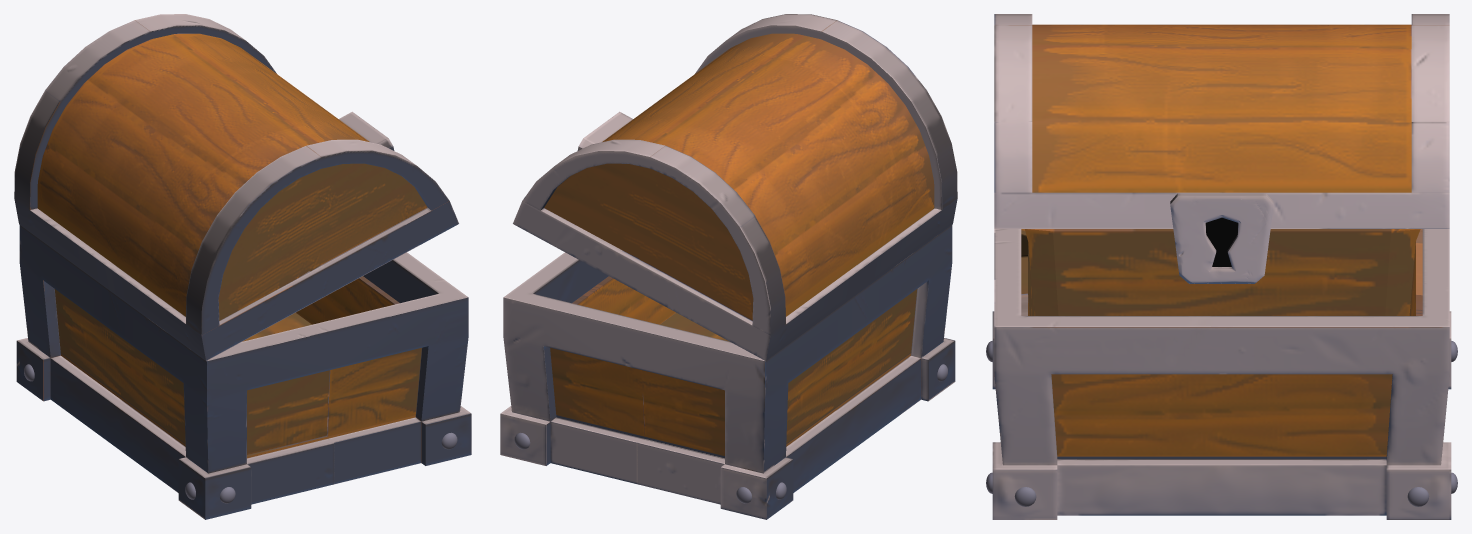
Rendered from bau_medieval 1.glb.
3 views of the same model, side by side, from view 1: azimuth 30°, elevation 25°; view 2: azimuth 150°, elevation 25°; view 3: azimuth 270°, elevation 25° (orthographic). The views are drawn at different scales.
Visible parts, largest first — view 1: bau04_low._topo_0, bau02_low.baixo_1; view 2: bau04_low._topo_0, bau02_low.baixo_1; view 3: bau02_low.baixo_1, bau04_low._topo_0.
Part boxes in pixels (bbox=[...]): bau04_low._topo_0: bbox=[14, 14, 458, 360]; bau02_low.baixo_1: bbox=[16, 225, 471, 519]; bau04_low._topo_0: bbox=[513, 14, 957, 360]; bau02_low.baixo_1: bbox=[500, 225, 955, 519]; bau02_low.baixo_1: bbox=[986, 229, 1457, 519]; bau04_low._topo_0: bbox=[994, 14, 1449, 283].
Size of the model in its own units: 1.87 by 2.13 by 2.24.
1 material, 1 textured.
